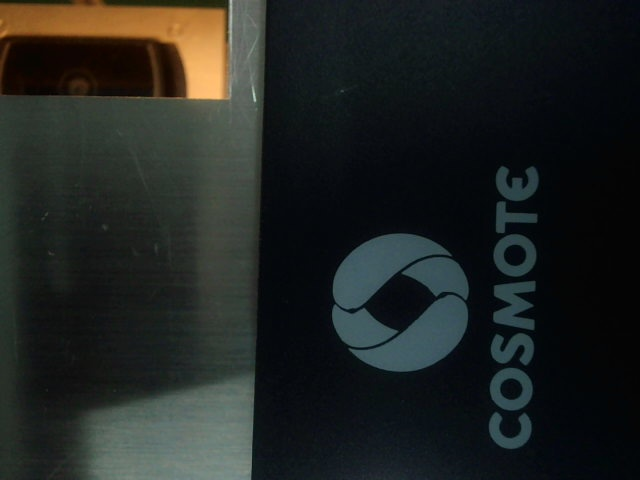AU_COSMOTE: (323, 148, 551, 451)
